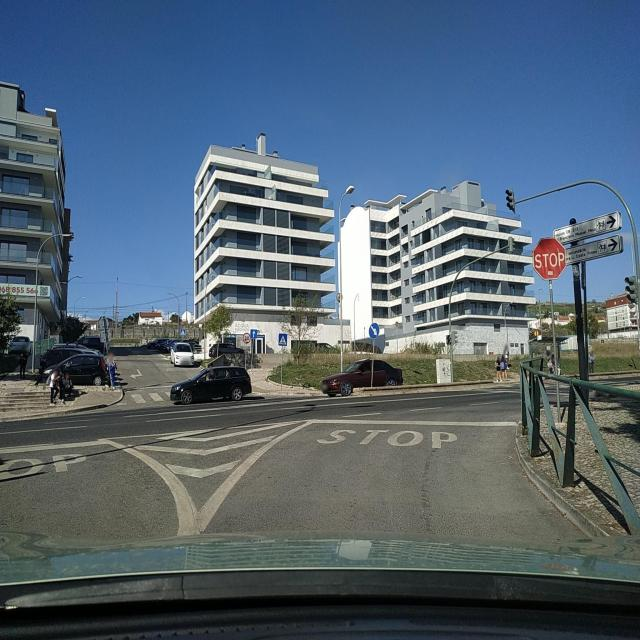car: (169, 365, 252, 405), (321, 358, 404, 396), (40, 352, 113, 388), (39, 343, 90, 377), (211, 345, 250, 368), (170, 342, 194, 367), (8, 334, 32, 356)
